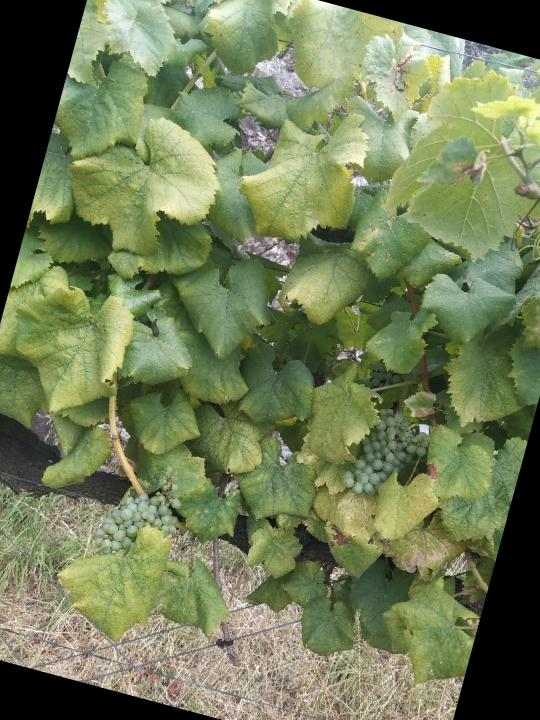grape: (337, 400, 437, 513), (89, 480, 186, 572)
